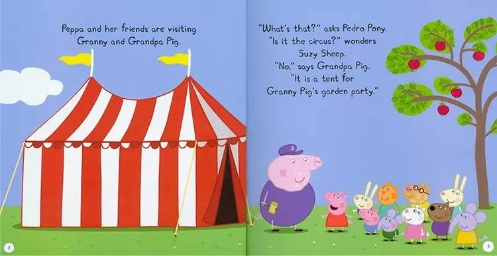Peppa: (321, 189, 351, 234)
